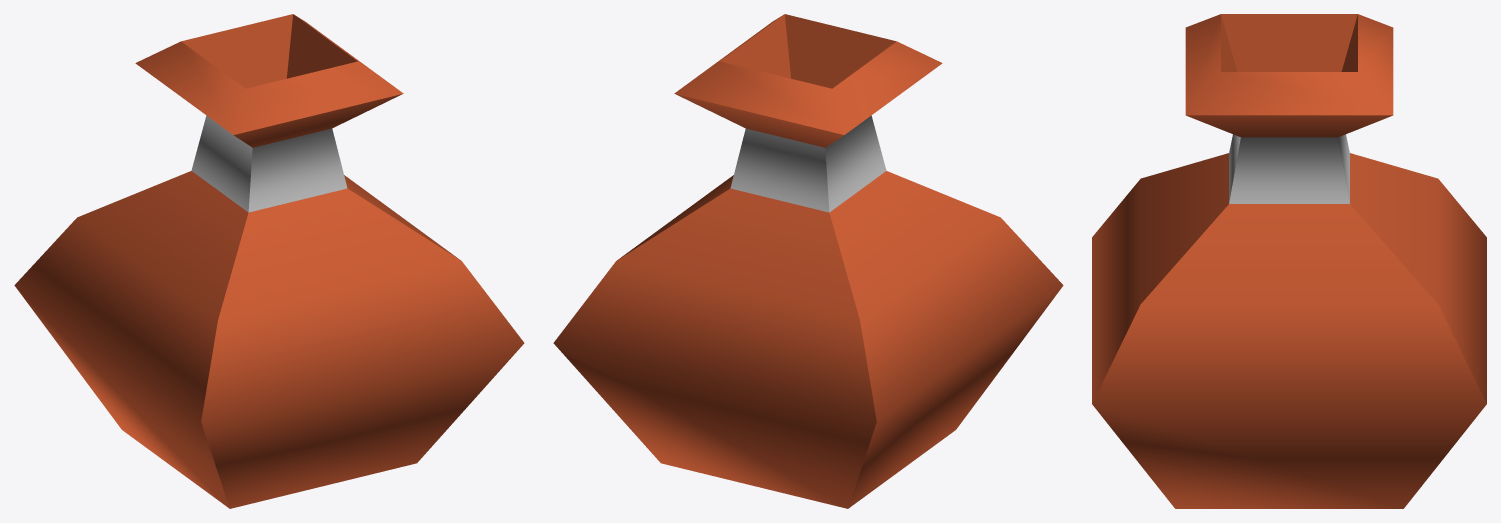
File: vase_environment_001.fbx
3 views of the same model, side by side, from view 1: azimuth 30°, elevation 25°; view 2: azimuth 150°, elevation 25°; view 3: azimuth 270°, elevation 25° (orthographic). The views are drawn at different scales.
Parts seen in each view (by area): view 1: pCylinder4; view 2: pCylinder4; view 3: pCylinder4.
Boxes of the visible parts, <box> form: pCylinder4: <box>14,14,524,508</box>; pCylinder4: <box>553,14,1063,508</box>; pCylinder4: <box>1092,14,1486,508</box>.
Bounding box in the file's own units: 1.28 × 1.5 × 1.28.
